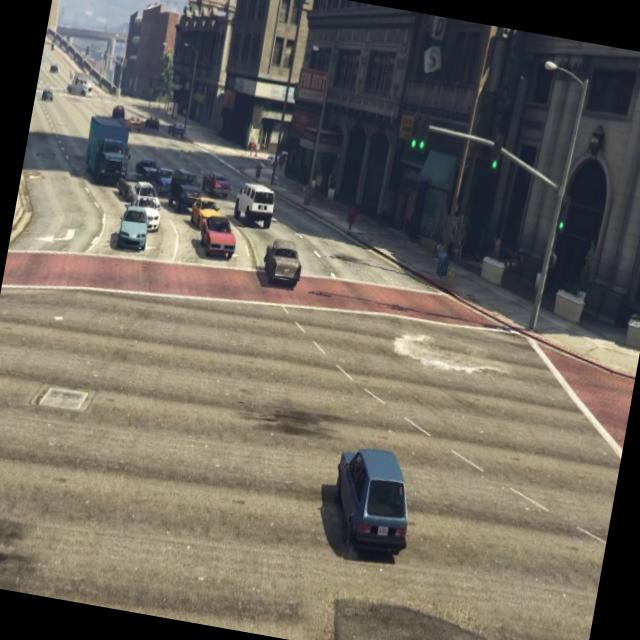Green-Signal: (402, 105, 436, 167), (550, 184, 578, 248), (484, 126, 508, 185)
